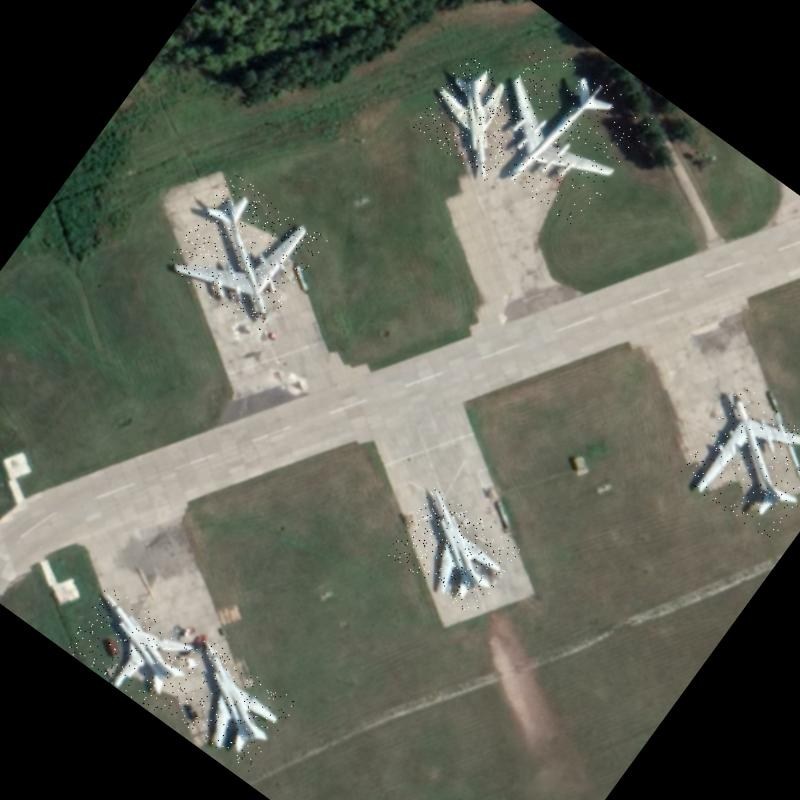A12: (156, 636, 298, 772), (62, 583, 204, 716), (385, 485, 521, 616), (412, 52, 540, 182)
A17: (462, 37, 654, 229), (163, 170, 328, 335), (673, 381, 800, 544)
